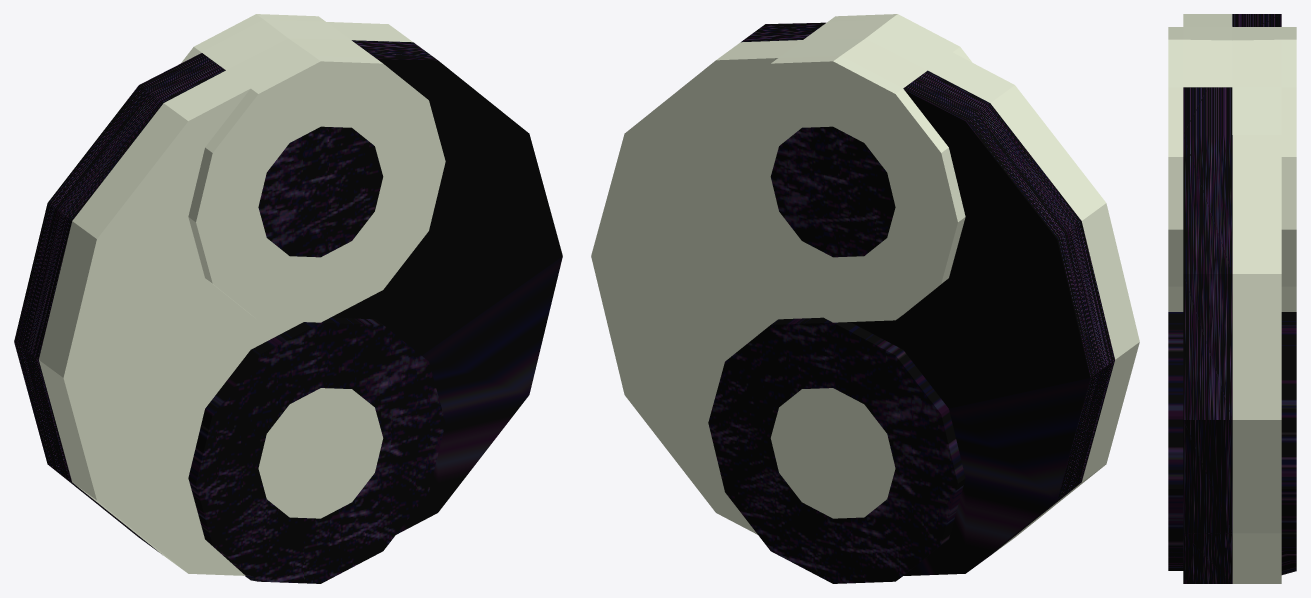
File: effect_PEACE_1.fbx
The picture shows the model from 3 angles, left to right: view 1: azimuth 30°, elevation 25°; view 2: azimuth 150°, elevation 25°; view 3: azimuth 270°, elevation 25°; orthographic projection.
Visible parts, largest first — view 1: effect_PEACE_1; view 2: effect_PEACE_1; view 3: effect_PEACE_1.
Boxes of the visible parts, x1,y1,x2,y2 form: effect_PEACE_1: (14, 14, 562, 583); effect_PEACE_1: (591, 14, 1139, 583); effect_PEACE_1: (1168, 14, 1296, 583).
Size of the model in its own units: 1.43 by 1.43 by 0.3216.
